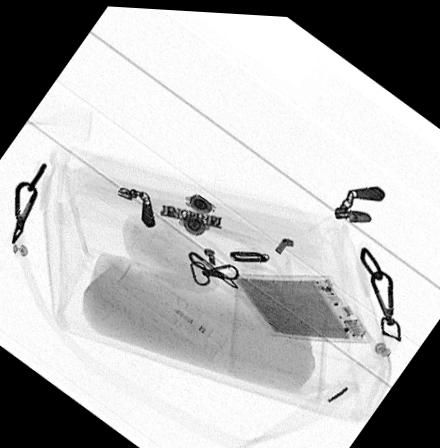Powerbank: (226, 269, 374, 337)
